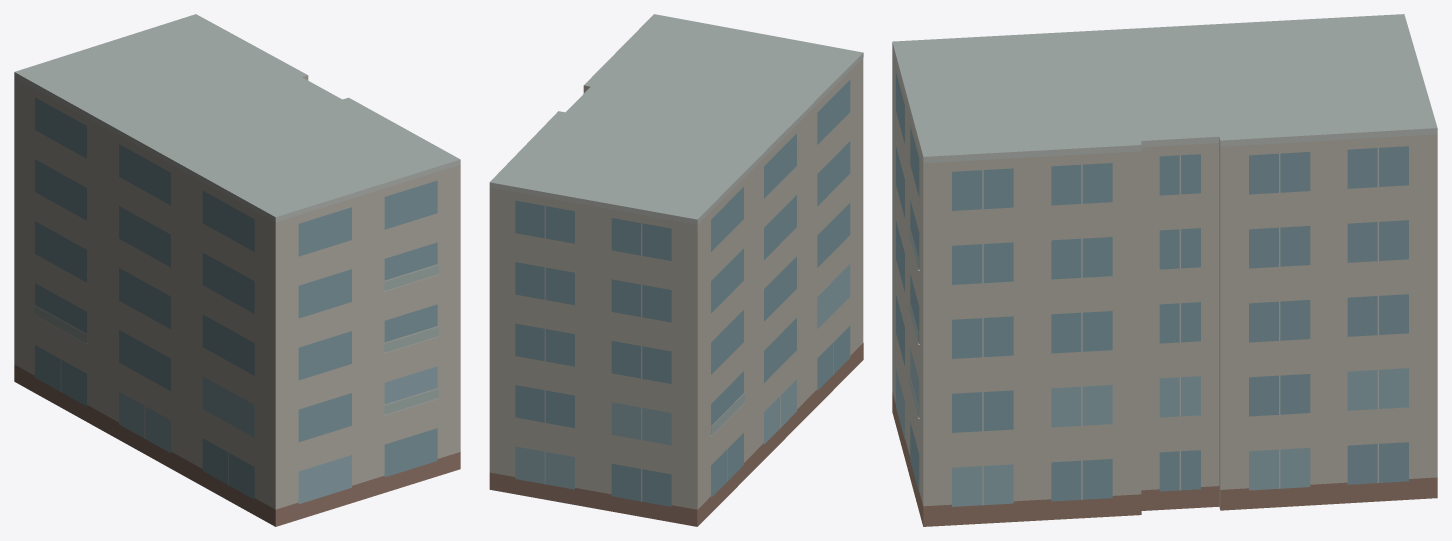
Rendered from survey-upis-32877085.glb.
3 views of the same model, side by side, from view 1: azimuth 30°, elevation 25°; view 2: azimuth 150°, elevation 25°; view 3: azimuth 270°, elevation 25° (orthographic). The views are drawn at different scales.
Visible parts, largest first — view 1: survey-upis-32877085.tmp; view 2: survey-upis-32877085.tmp; view 3: survey-upis-32877085.tmp.
Part boxes in pixels (x1,y1,x2,y2): survey-upis-32877085.tmp: (14,14,460,526); survey-upis-32877085.tmp: (489,14,863,526); survey-upis-32877085.tmp: (892,14,1437,526).
Bounding box in the file's own units: 11.94 × 14.4 × 19.25.
